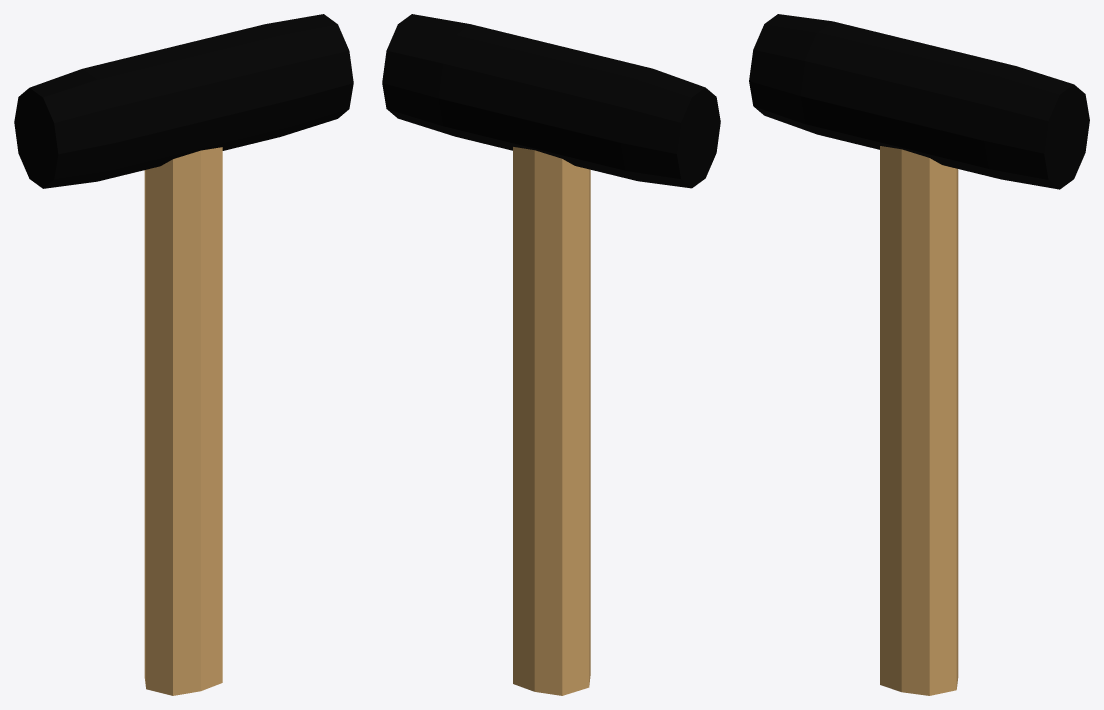
The model's file is hanma-09122132.fbx.
3 views of the same model, side by side, from view 1: azimuth 30°, elevation 25°; view 2: azimuth 150°, elevation 25°; view 3: azimuth 330°, elevation 25° (orthographic).
Parts seen in each view (by area): view 1: 円柱; view 2: 円柱; view 3: 円柱.
Boxes of the visible parts, x1,y1,x2,y2 form: 円柱: (14, 14, 353, 695); 円柱: (382, 14, 720, 695); 円柱: (749, 14, 1089, 695).
Size of the model in its own units: 1.96 by 4 by 0.5671.
